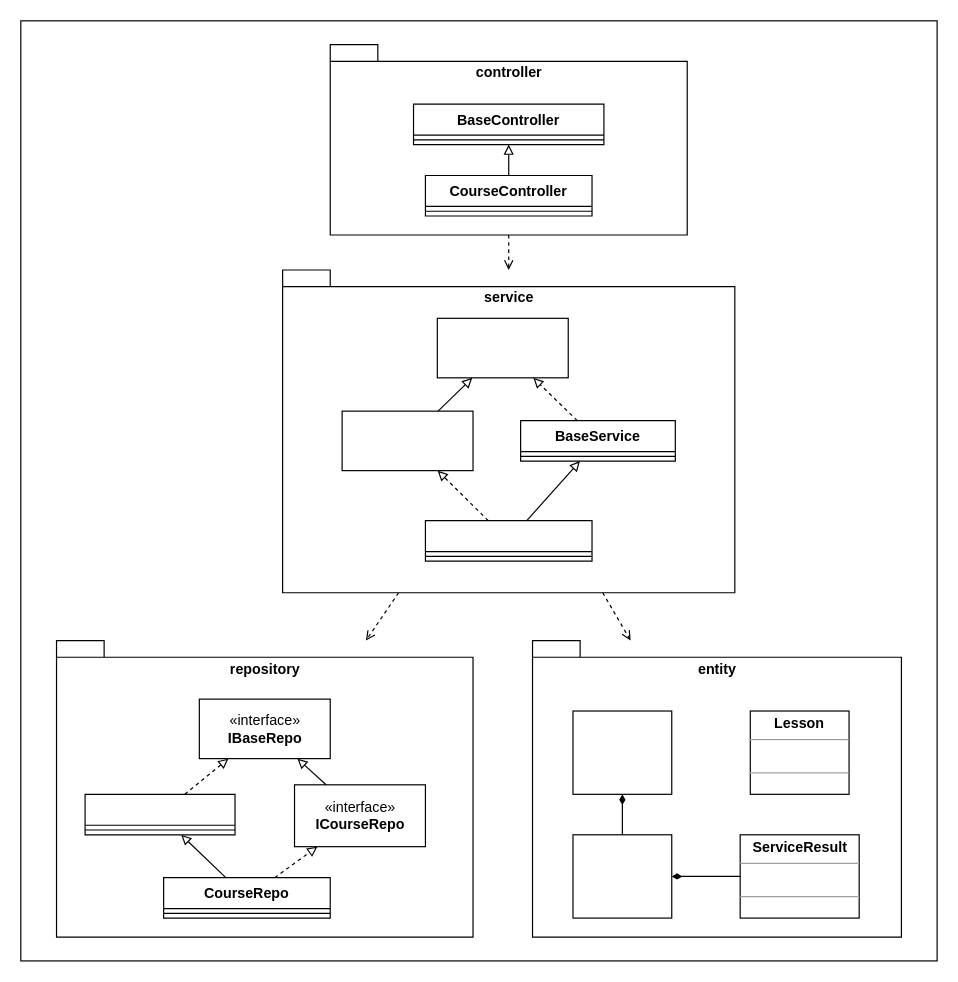
Some shapes in this 958 by 982 pixel diagram are drawn without their labels. The centre of each missing label's shape, as x and y in pixels:
BaseRepo: the point at 159,814
Chapter: the point at 622,876
Course: the point at 622,752
CourseService: the point at 508,540
«interface» IBaseService: the point at 502,347
«interface» ICourseService: the point at 407,440
